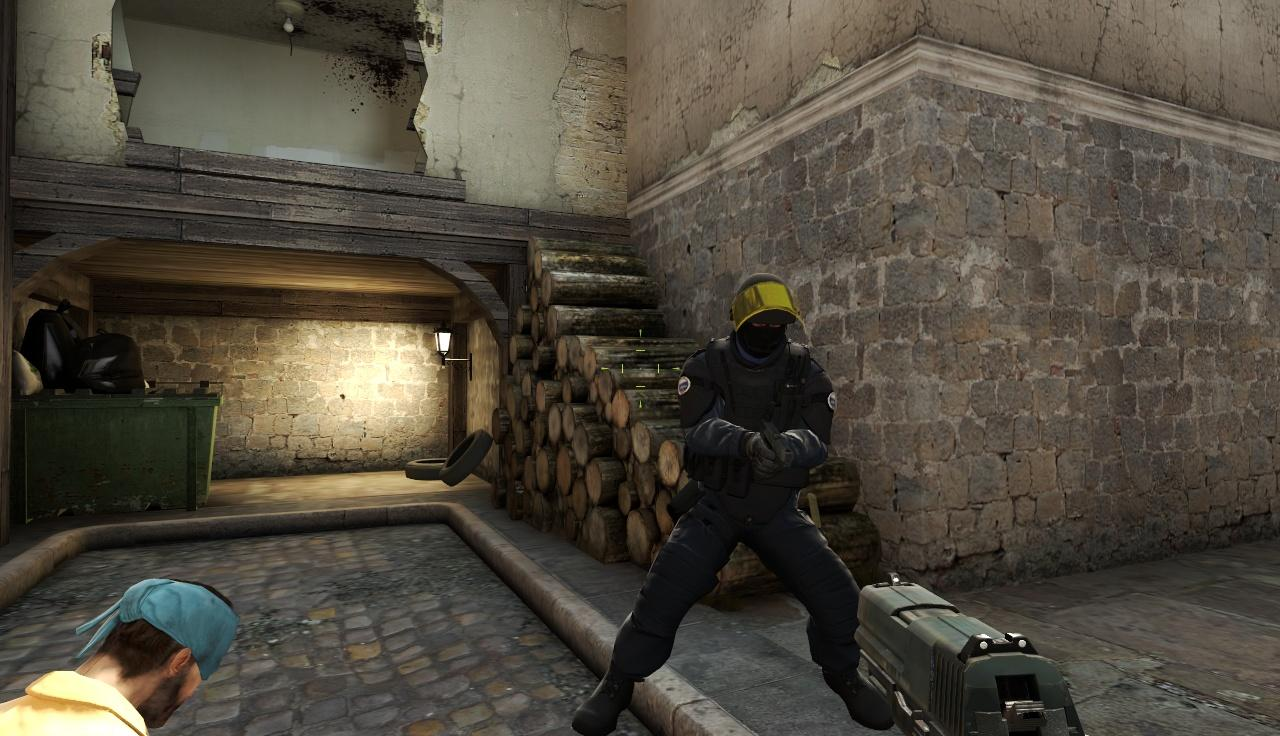ct: (679, 274, 835, 650)
cthead: (728, 274, 802, 349)
pistol: (854, 569, 1076, 736)
